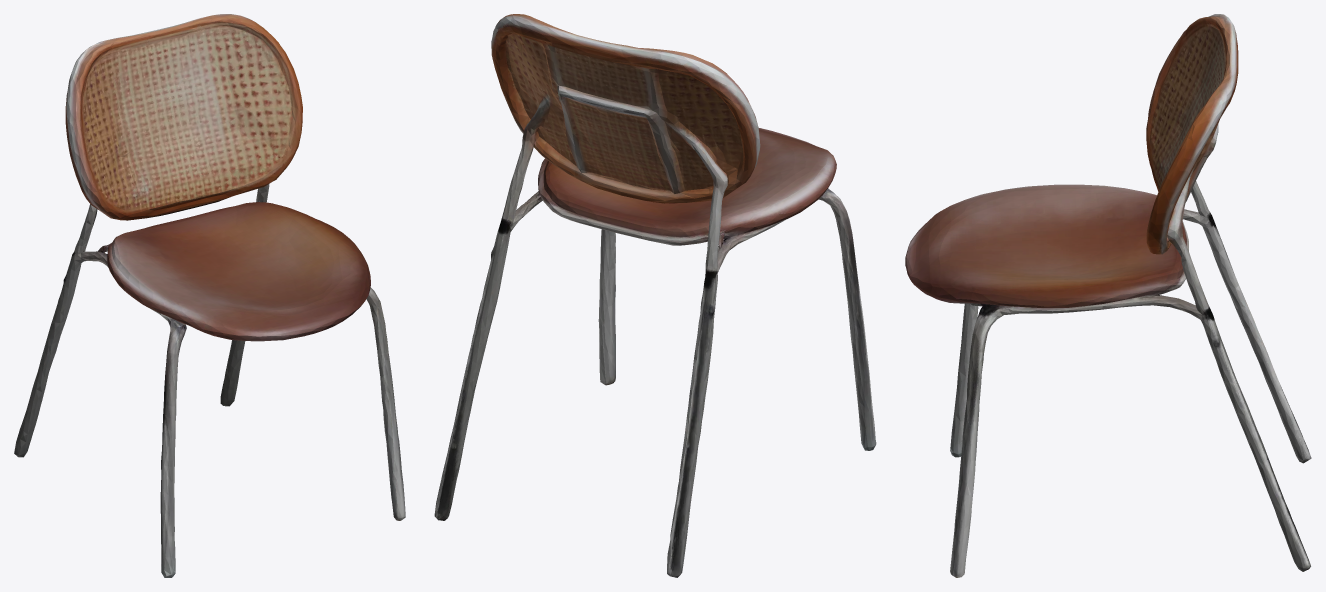
3 renders of one model, left to right at view 1: azimuth 30°, elevation 25°; view 2: azimuth 150°, elevation 25°; view 3: azimuth 270°, elevation 25°, orthographic. The views are drawn at different scales.
Parts seen in each view (by area): view 1: geometry_0; view 2: geometry_0; view 3: geometry_0.
Boxes of the visible parts, x1,y1,x2,y2 form: geometry_0: [14, 14, 405, 577]; geometry_0: [434, 14, 876, 577]; geometry_0: [905, 14, 1311, 577].
Size of the model in its own units: 0.478 by 0.8077 by 0.64.
1 material, 1 textured.
